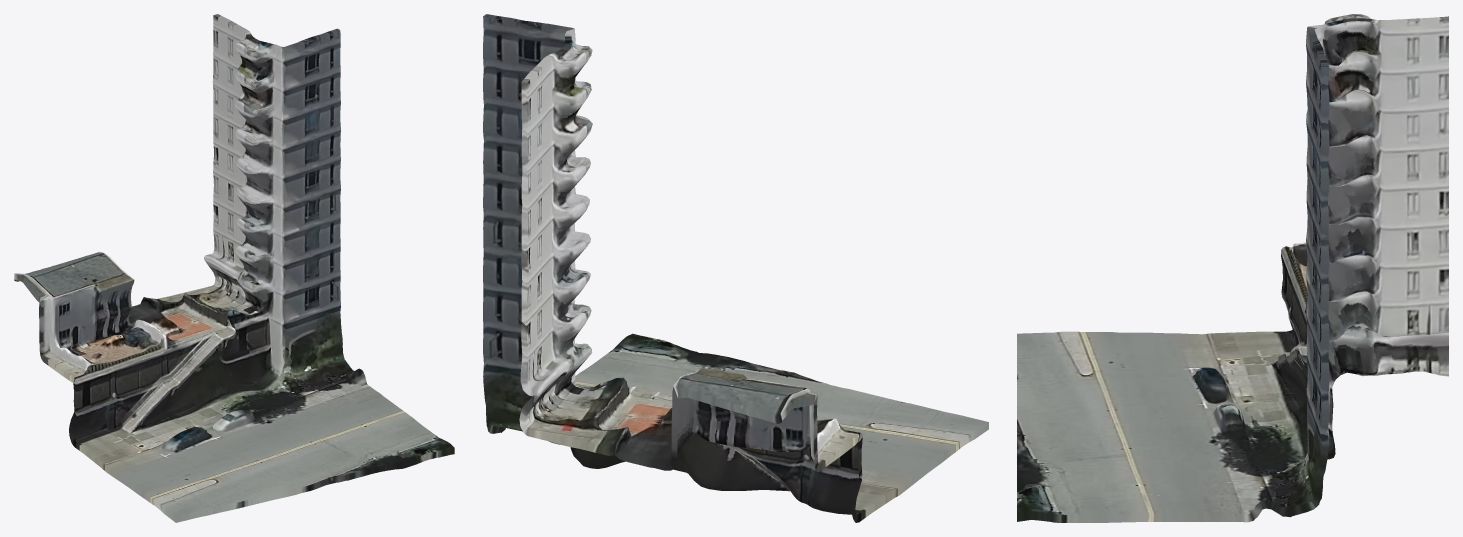
The model's file is z20-167780-405216-h0-yup-uvflip-v3-world.glb.
3 renders of one model, left to right at view 1: azimuth 30°, elevation 25°; view 2: azimuth 150°, elevation 25°; view 3: azimuth 270°, elevation 25°, orthographic. The views are drawn at different scales.
Size of the model in its own units: 30.16 by 35.36 by 30.32.
1 material, 1 textured.
